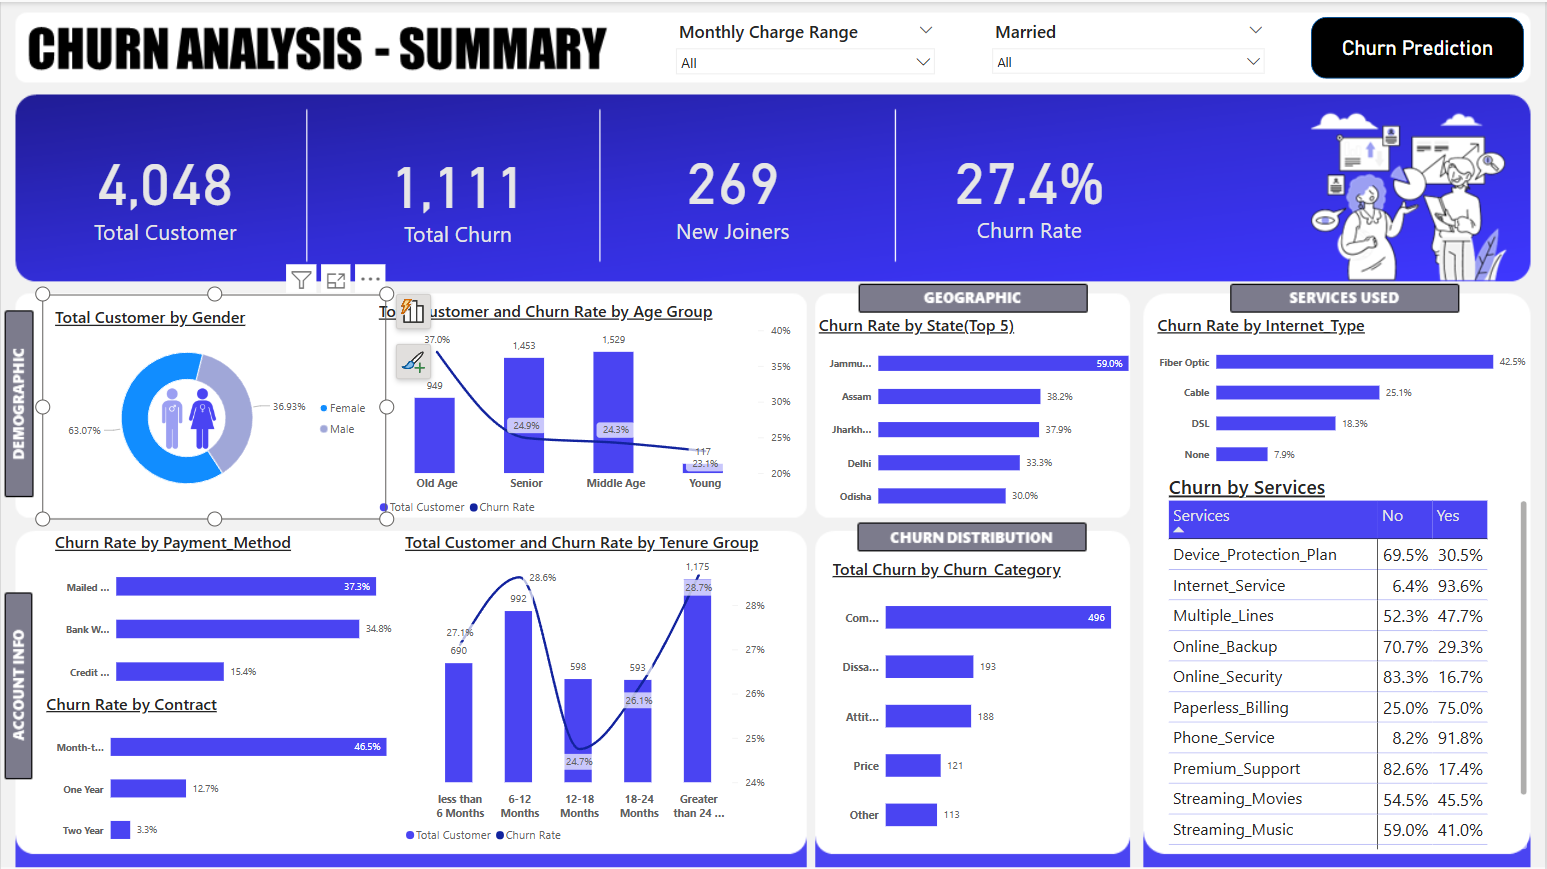

The page's visual inventory and layout, read from the dashboard file:
{"tool":"powerbi","page":{"name":"Summary","canvas":[1920,1080],"ordinal":0},"visuals":[{"type":"card","fields":{"Values":["Tbl_Measures.Total Customer"]},"box":[22,104.4,364.6,262],"z":0},{"type":"card","fields":{"Values":["Tbl_Measures.Total Churn"]},"box":[386.6,108.1,362.7,258.3],"z":1000},{"type":"card","fields":{"Values":["Tbl_Measures.new joiners"]},"box":[688.9,95.3,443.4,278.5],"z":2000},{"type":"card","fields":{"Values":["Tbl_Measures.Churn Rate"]},"box":[1112.1,104.4,335.3,258.3],"z":3000},{"type":"image","box":[181.8,467.5,103.9,97.4],"z":4000},{"type":"donutChart","fields":{"Category":["prod_Churn.Gender"],"Y":["Tbl_Measures.Total Customer"]},"box":[50.9,363.1,427.3,281.2],"z":5000},{"type":"lineStackedColumnComboChart","fields":{"Category":["Mapping_groupAge.Age Group"],"Y":["Tbl_Measures.Total Customer"],"Y2":["Tbl_Measures.Churn Rate"]},"box":[454.3,355.7,547.1,302.9],"z":6000},{"type":"clusteredBarChart","fields":{"Category":["prod_Churn.Payment_Method"],"Y":["Tbl_Measures.Churn Rate"]},"box":[50.9,644.3,469.4,241.3],"z":7000},{"type":"clusteredBarChart","fields":{"Category":["prod_Churn.Contract"],"Y":["Tbl_Measures.Churn Rate"]},"box":[39.9,843.5,493.7,236.9],"z":8000},{"type":"lineStackedColumnComboChart","fields":{"Category":["Mapping_groupTenure.Tenure Group"],"Y":["Tbl_Measures.Total Customer"],"Y2":["Tbl_Measures.Churn Rate"]},"box":[487.1,644.3,482.7,422.9],"z":9000},{"type":"clusteredBarChart","title":"Churn Rate by State(Top 5)","fields":{"Category":["prod_Churn.State"],"Y":["Tbl_Measures.Churn Rate"]},"box":[1001.2,373.8,453.8,285],"z":10000},{"type":"clusteredBarChart","fields":{"Category":["prod_Churn.Churn_Category"],"Y":["Tbl_Measures.Total Churn"]},"box":[1017.5,676,404.5,391.9],"z":11000},{"type":"clusteredBarChart","fields":{"Category":["prod_Churn.Internet_Type"],"Y":["Tbl_Measures.Churn Rate"]},"box":[1422.5,373.8,491.2,231.2],"z":12000},{"type":"slicer","fields":{"Values":["prod_Churn.Monthly Charge Status"]},"box":[835.4,22,331.6,111.8],"z":13000},{"type":"slicer","fields":{"Values":["prod_Churn.Married"]},"box":[1228.3,21.7,348.3,83.3],"z":14000},{"type":"pivotTable","fields":{"Rows":["prod_Services.Services"],"Values":["prod_Churn.churn percentage row"]},"box":[1955,167.5,466.2,258.8],"z":15000},{"type":"pivotTable","title":"Churn by Services","fields":{"Columns":["prod_Services.Status"],"Rows":["prod_Services.Services"],"Values":["prod_Churn.churn percentage row"]},"box":[1435.6,571.6,477.8,497.5],"z":16000},{"type":"shape","box":[1628.3,18.3,265,76.7],"z":16001}]}

Visuals, with their boxes in screenshot pixels (x1, y1, x2, y2), scaled from the page's 1920x1080 canvas onto the 1547x869 screenshot:
card - Tbl_Measures.Total Customer: (left=18, top=84, right=311, bottom=295)
card - Tbl_Measures.Total Churn: (left=311, top=87, right=604, bottom=295)
card - Tbl_Measures.new joiners: (left=555, top=77, right=912, bottom=301)
card - Tbl_Measures.Churn Rate: (left=896, top=84, right=1166, bottom=292)
image: (left=146, top=376, right=230, bottom=455)
donutChart - prod_Churn.Gender x Tbl_Measures.Total Customer: (left=41, top=292, right=385, bottom=518)
lineStackedColumnComboChart - Mapping_groupAge.Age Group x Tbl_Measures.Total Customer: (left=366, top=286, right=807, bottom=530)
clusteredBarChart - prod_Churn.Payment_Method x Tbl_Measures.Churn Rate: (left=41, top=518, right=419, bottom=713)
clusteredBarChart - prod_Churn.Contract x Tbl_Measures.Churn Rate: (left=32, top=679, right=430, bottom=868)
lineStackedColumnComboChart - Mapping_groupTenure.Tenure Group x Tbl_Measures.Total Customer: (left=392, top=518, right=781, bottom=859)
"Churn Rate by State(Top 5)" clusteredBarChart: (left=807, top=301, right=1172, bottom=530)
clusteredBarChart - prod_Churn.Churn_Category x Tbl_Measures.Total Churn: (left=820, top=544, right=1146, bottom=859)
clusteredBarChart - prod_Churn.Internet_Type x Tbl_Measures.Churn Rate: (left=1146, top=301, right=1542, bottom=487)
slicer - prod_Churn.Monthly Charge Status: (left=673, top=18, right=940, bottom=108)
slicer - prod_Churn.Married: (left=990, top=17, right=1270, bottom=84)
"Churn by Services" pivotTable: (left=1157, top=460, right=1542, bottom=860)
shape: (left=1312, top=15, right=1525, bottom=76)
